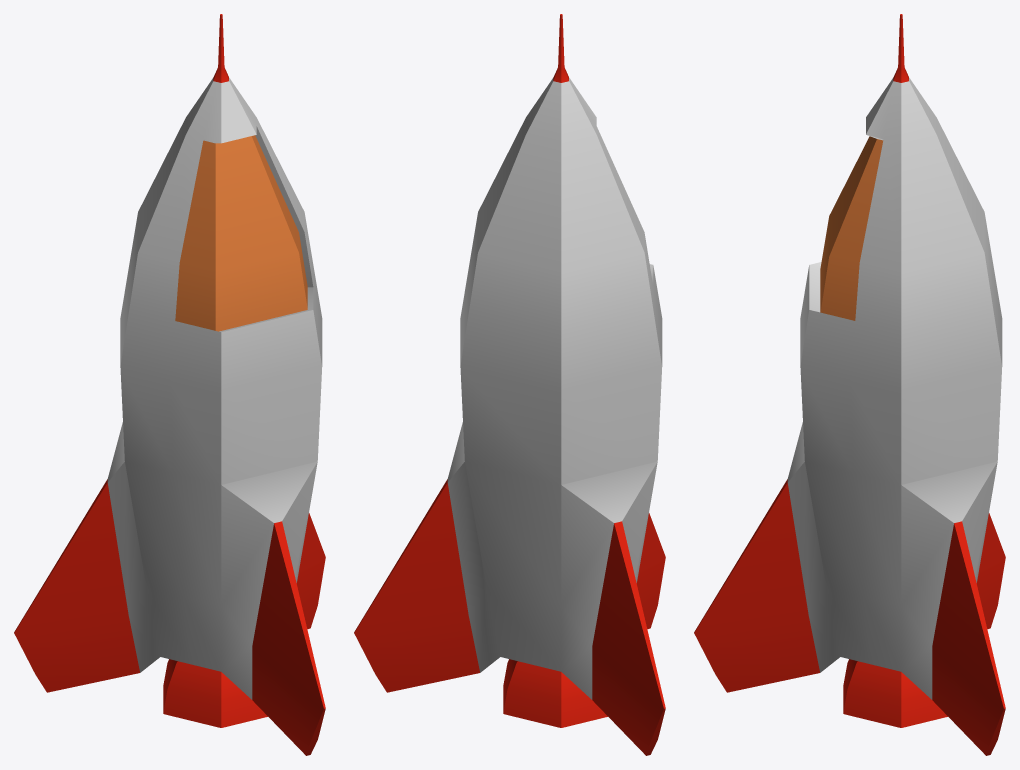
The model's file is Project Name.glb.
The picture shows the model from 3 angles, left to right: view 1: azimuth 30°, elevation 25°; view 2: azimuth 150°, elevation 25°; view 3: azimuth 270°, elevation 25°; orthographic projection.
Parts seen in each view (by area): view 1: Monocoque, Wings, Glass; view 2: Monocoque, Wings; view 3: Monocoque, Wings, Glass.
Part boxes in pixels (x1,y1,x2,y2): Monocoque: (107, 77, 322, 699); Wings: (14, 14, 325, 755); Glass: (175, 135, 307, 331); Monocoque: (447, 77, 662, 699); Wings: (354, 14, 665, 755); Monocoque: (787, 77, 1002, 699); Wings: (694, 14, 1005, 755); Glass: (820, 136, 883, 320).
Bounding box in the file's own units: 0.066 × 0.1387 × 0.0572.
